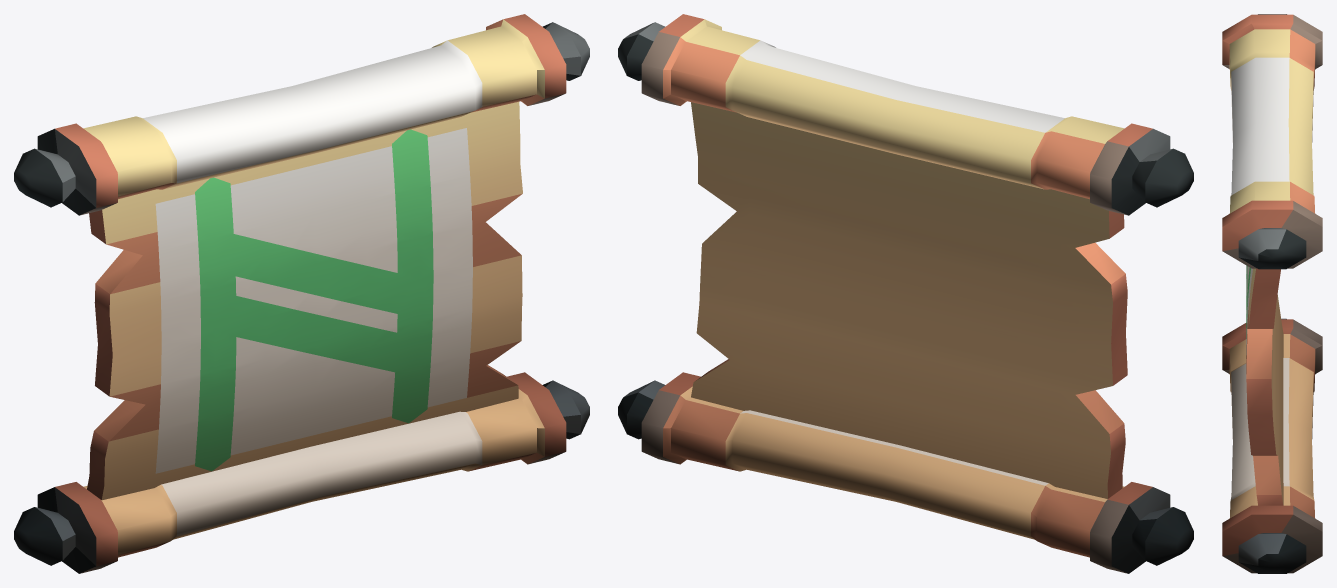
Rendered from scroll_lime_hagalaz.glb.
The picture shows the model from 3 angles, left to right: view 1: azimuth 30°, elevation 25°; view 2: azimuth 150°, elevation 25°; view 3: azimuth 270°, elevation 25°; orthographic projection. The views are drawn at different scales.
Visible parts, largest first — view 1: Item; view 2: Item; view 3: Item.
Boxes of the visible parts, <box> form: Item: <box>14,14,589,573</box>; Item: <box>618,14,1193,573</box>; Item: <box>1222,14,1322,573</box>.
Size of the model in its own units: 0.88 by 0.64 by 0.1595.
2 materials, 2 textured.
